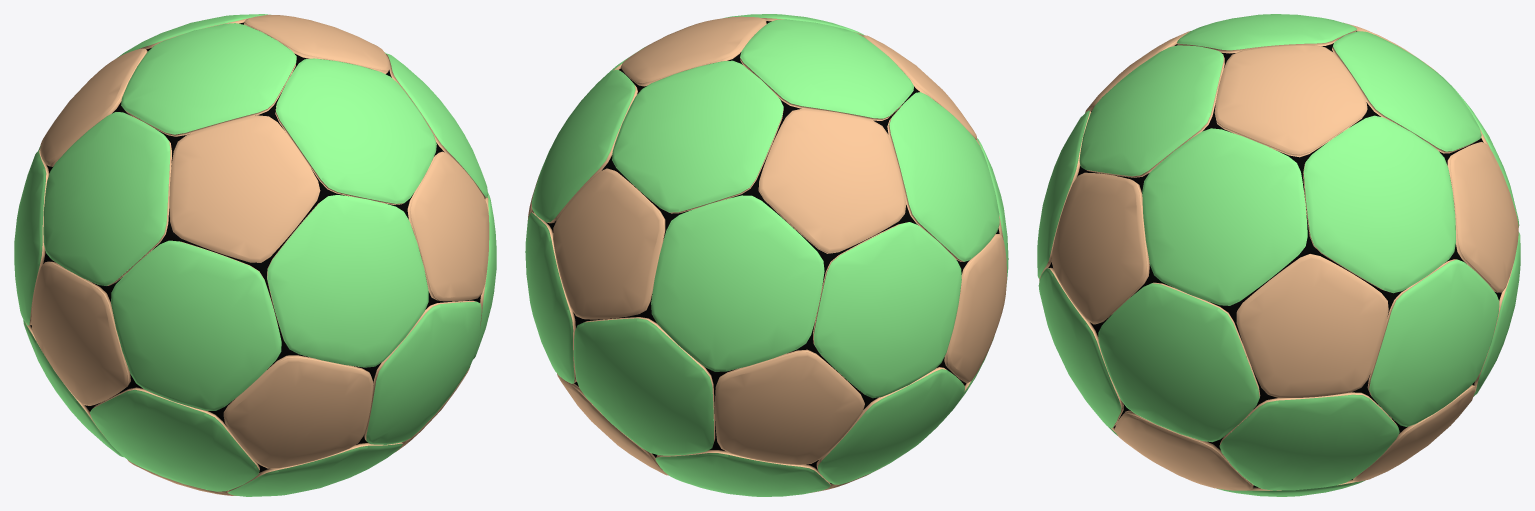
The model's file is football.FBX.
The picture shows the model from 3 angles, left to right: view 1: azimuth 30°, elevation 25°; view 2: azimuth 150°, elevation 25°; view 3: azimuth 270°, elevation 25°; orthographic projection.
Parts seen in each view (by area): view 1: football; view 2: football; view 3: football.
Part boxes in pixels (left/top/right/bottom): football: left=14, top=14, right=496, bottom=496; football: left=525, top=14, right=1008, bottom=496; football: left=1037, top=14, right=1520, bottom=496.
Size of the model in its own units: 34.49 by 34.46 by 34.52.
